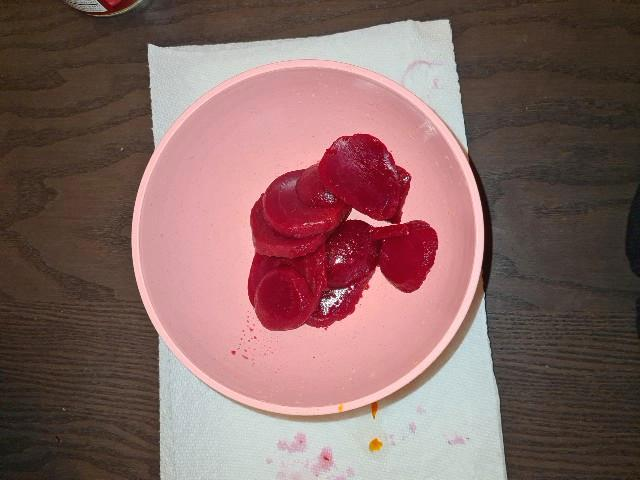kichen waste: (248, 134, 440, 331)
